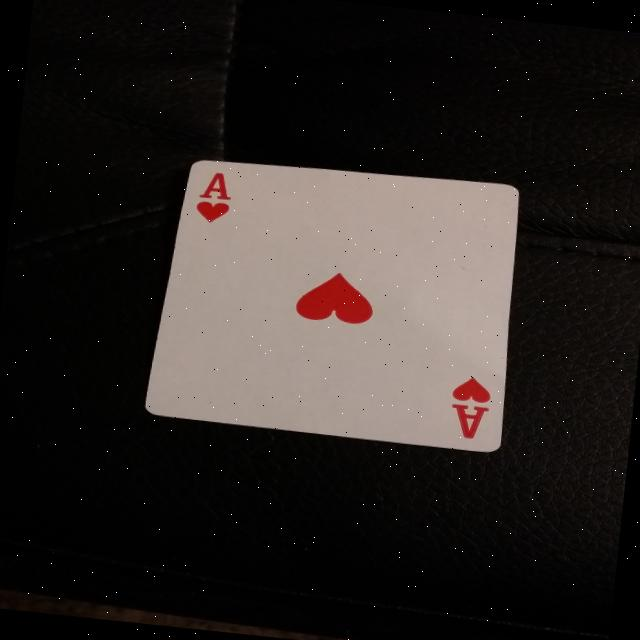Ah: (433, 358, 502, 446), (185, 161, 249, 234)
